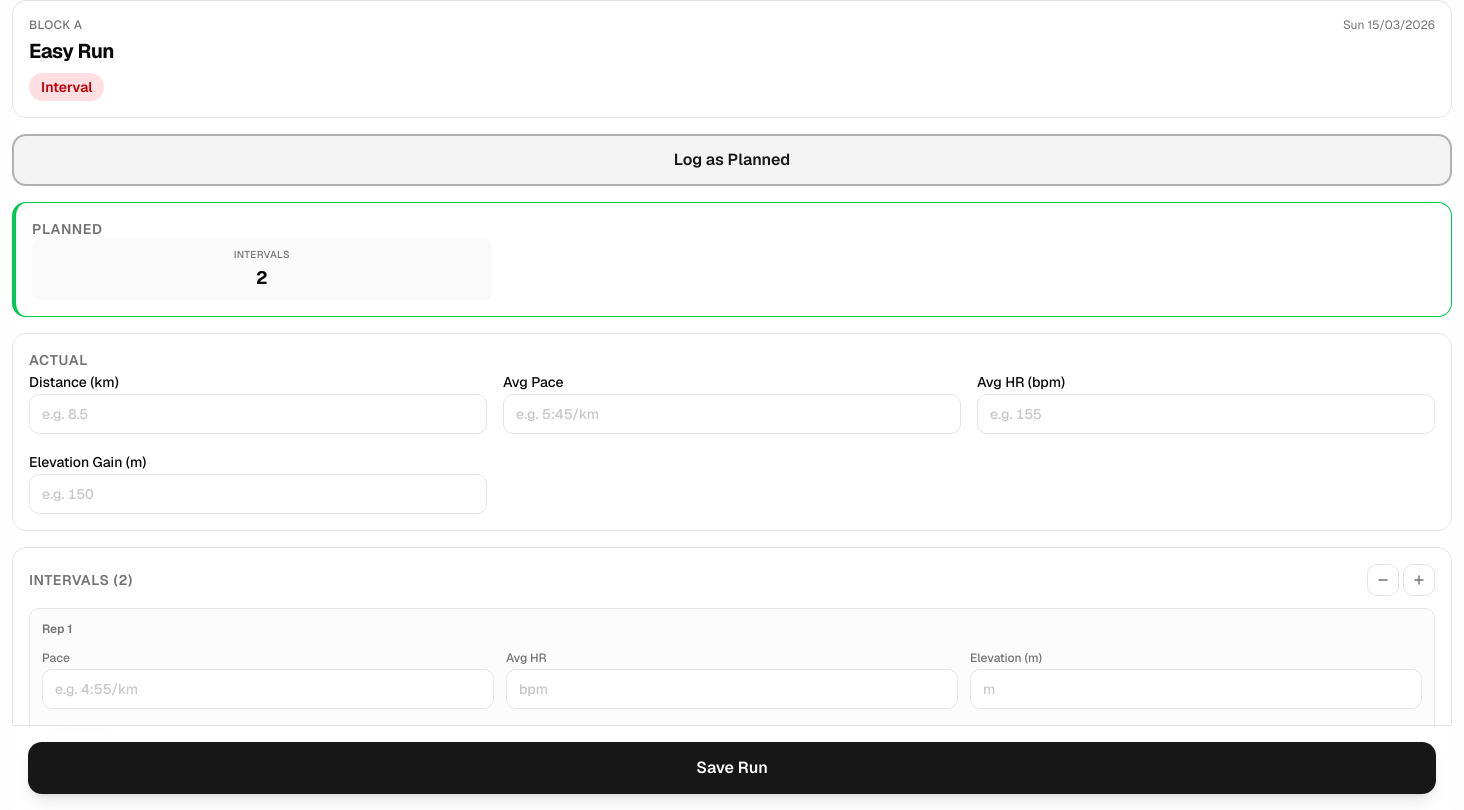
it: RunningLoggingForm — T180 characterization (elevation gain) › interval save payload includes intervalData with interval_elevation_gain: null
This screenshot has width=1464, height=810.
Note: Fill some interval data
Type "4:30" into the field with test id "interval-pace-1" at (268, 689), box [42,669,494,709]
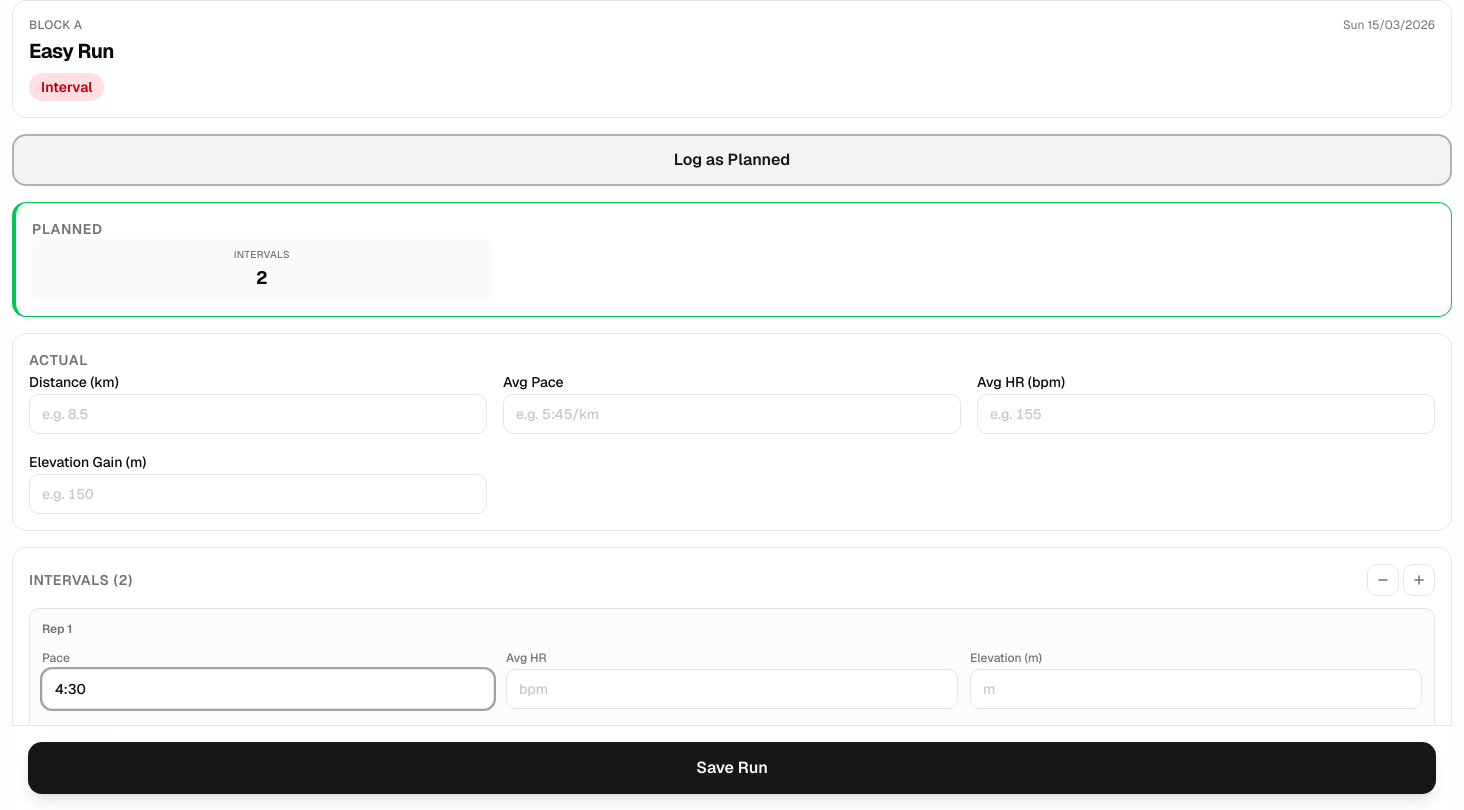
Type "170" into the field with test id "interval-hr-1" at (732, 689), box [506,669,958,709]
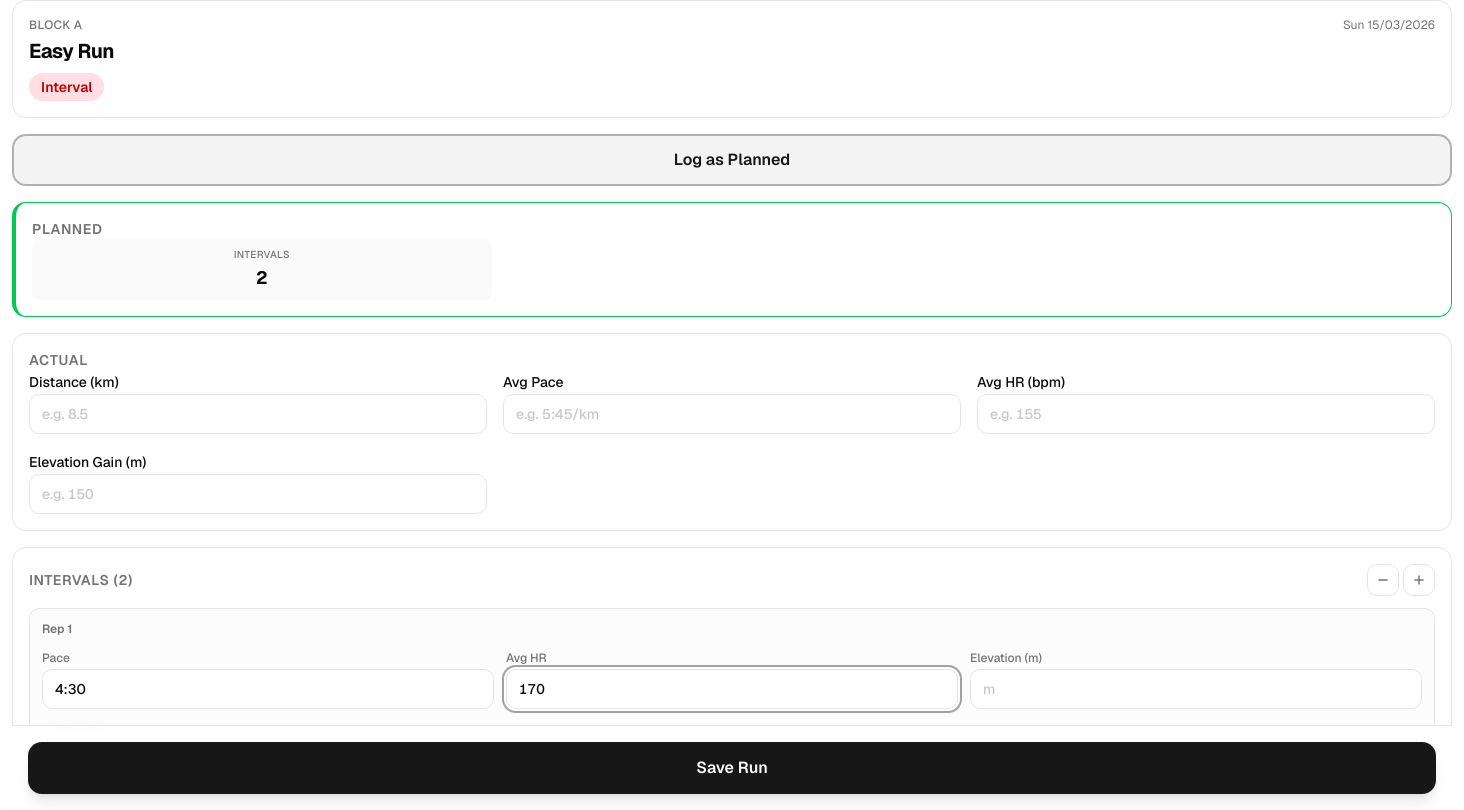
Click the button with test id "save-running-btn" at (732, 768), box [28,742,1436,794]
(page scrolled)
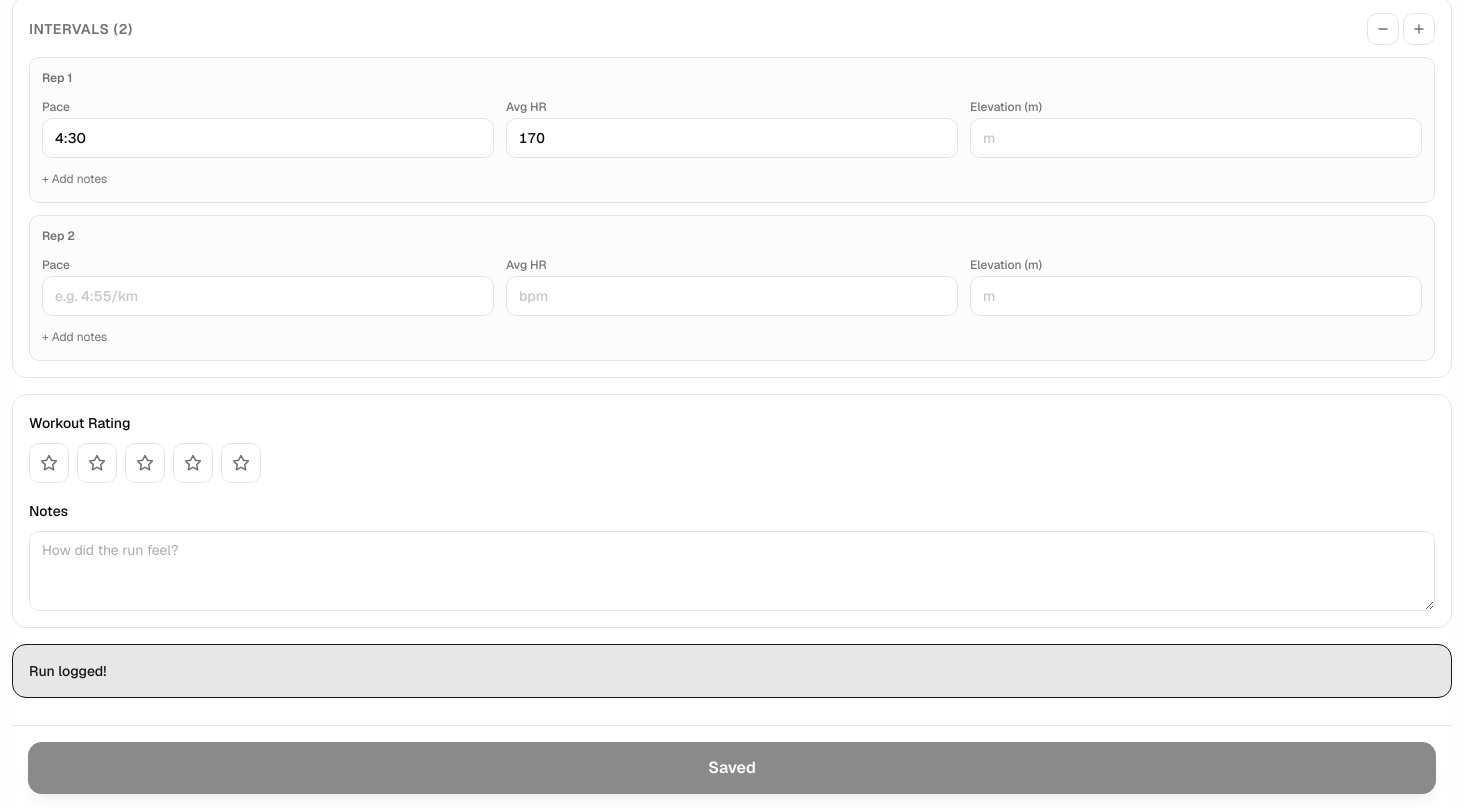
Now the element with test id "save-success" is shown, box [12,644,1452,698]
